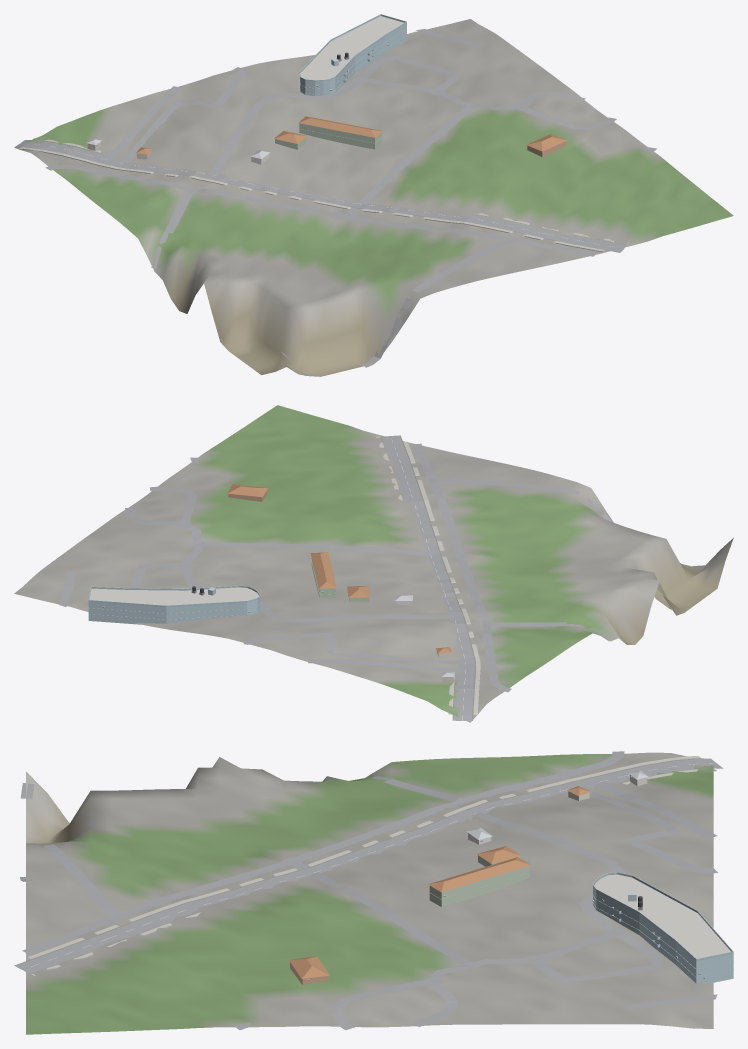
3 renders of one model, top to bottom at view 1: azimuth 30°, elevation 25°; view 2: azimuth 150°, elevation 25°; view 3: azimuth 270°, elevation 25°, orthographic. The views are drawn at different scales.
Parts seen in each view (by area): view 1: Terrain-col, Roads-col, Buildings-col, Sidewalks-col, Details; view 2: Terrain-col, Roads-col, Buildings-col, Sidewalks-col, Details; view 3: Terrain-col, Roads-col, Buildings-col, Sidewalks-col, Details.
Boxes of the visible parts, box(x1,y1,x2,y2) form: Terrain-col: box(15, 19, 733, 376); Roads-col: box(14, 29, 656, 367); Buildings-col: box(87, 16, 567, 164); Sidewalks-col: box(19, 138, 628, 252); Details: box(96, 14, 406, 155); Terrain-col: box(14, 405, 733, 722); Roads-col: box(59, 435, 612, 720); Buildings-col: box(88, 484, 454, 682); Sidewalks-col: box(376, 436, 480, 714); Details: box(88, 557, 451, 653); Terrain-col: box(26, 752, 713, 1034); Roads-col: box(14, 751, 723, 1030); Buildings-col: box(289, 770, 733, 985); Sidewalks-col: box(28, 756, 716, 975); Details: box(307, 776, 733, 980).
Size of the model in its own units: 261 by 47.17 by 268.
